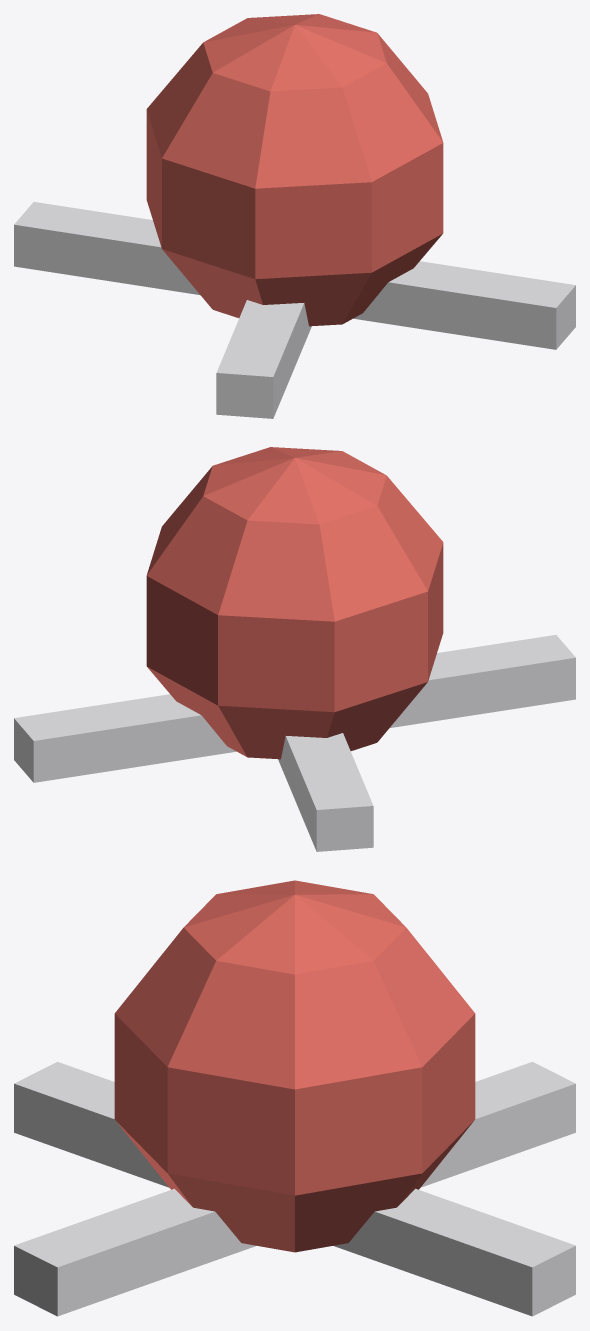
The model's file is battle.glb.
The picture shows the model from 3 angles, top to bottom: view 1: azimuth 30°, elevation 25°; view 2: azimuth 150°, elevation 25°; view 3: azimuth 270°, elevation 25°; orthographic projection. The views are drawn at different scales.
Parts seen in each view (by area): view 1: battle; view 2: battle; view 3: battle.
Boxes of the visible parts, left/top/right/bottom form: battle: left=14, top=14, right=575, bottom=418; battle: left=14, top=447, right=575, bottom=851; battle: left=14, top=880, right=575, bottom=1316.
Size of the model in its own units: 0.3597 by 0.28 by 0.4152.
